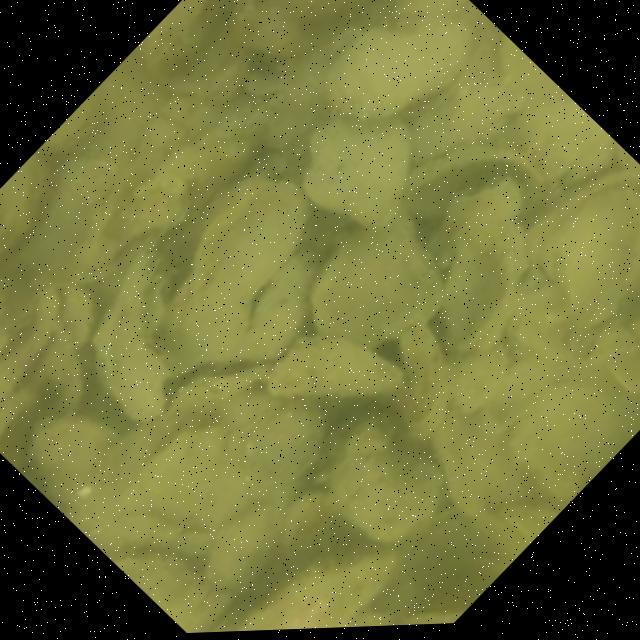Oyster-Closed: (401, 140, 555, 221)
Oyster-Indeterminate: (151, 175, 313, 376), (310, 210, 445, 350), (321, 412, 448, 546), (322, 11, 475, 120), (550, 181, 640, 332), (241, 545, 398, 631), (441, 215, 532, 353), (303, 111, 410, 225), (155, 116, 273, 208), (107, 549, 236, 633), (28, 408, 121, 509), (263, 337, 407, 396), (236, 397, 325, 482), (136, 95, 224, 158), (228, 0, 322, 56), (0, 157, 49, 254), (36, 89, 107, 152), (600, 319, 640, 396), (295, 0, 368, 15)
